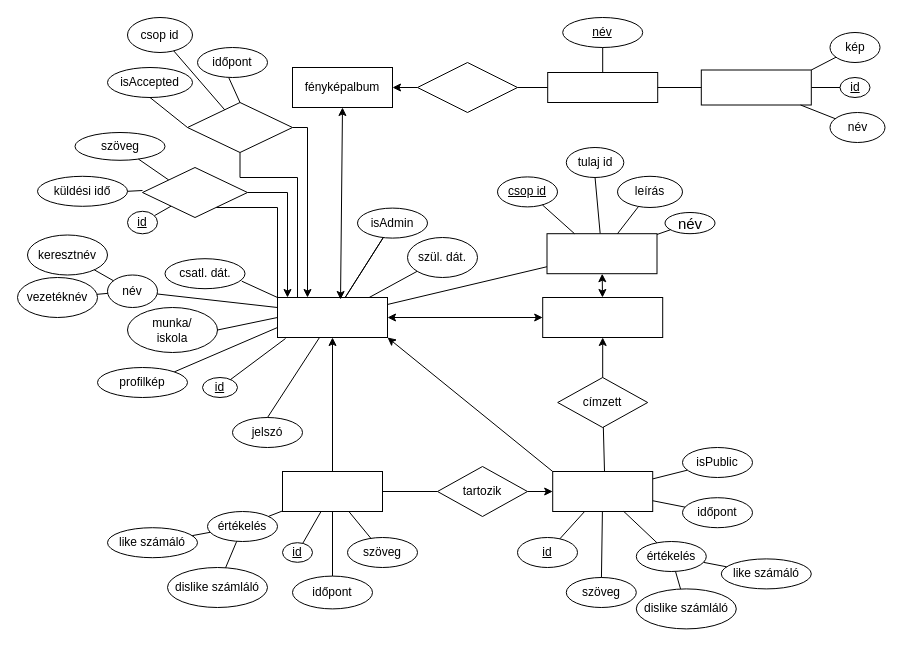
This 903x647 diagram has some shape labels left out. Each missing label, with the centre of its shape:
"Csoport" belongs at (601,253).
"Felhasználó" belongs at (332,317).
"fénykép" belongs at (755,87).
"hírfolyam" belongs at (602,317).
"Kategória" belongs at (602,87).
"kategóriája" belongs at (467,87).
"komment" belongs at (332,491).
"meghívás" belongs at (239,127).
"poszt" belongs at (602,491).
"üzenet" belongs at (195,192).
